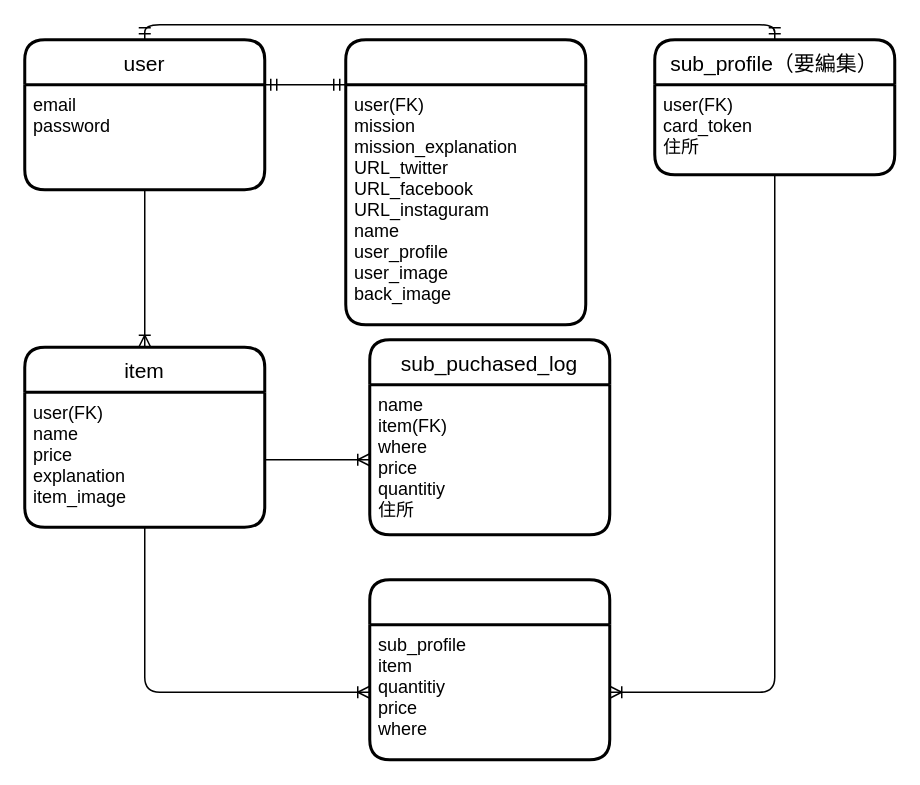
This 920x785 diagram has some shape labels left out. Each missing label, with the box of its shape:
main_profile: (344, 38, 586, 326)
main_puchased: (368, 578, 610, 760)
